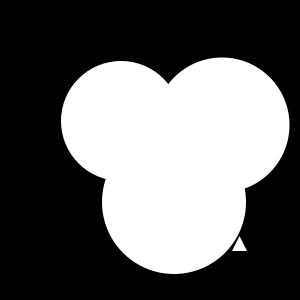rectangle: (102, 130, 246, 274), (154, 58, 290, 193), (61, 61, 181, 181)
triangle: (232, 236, 247, 251)
